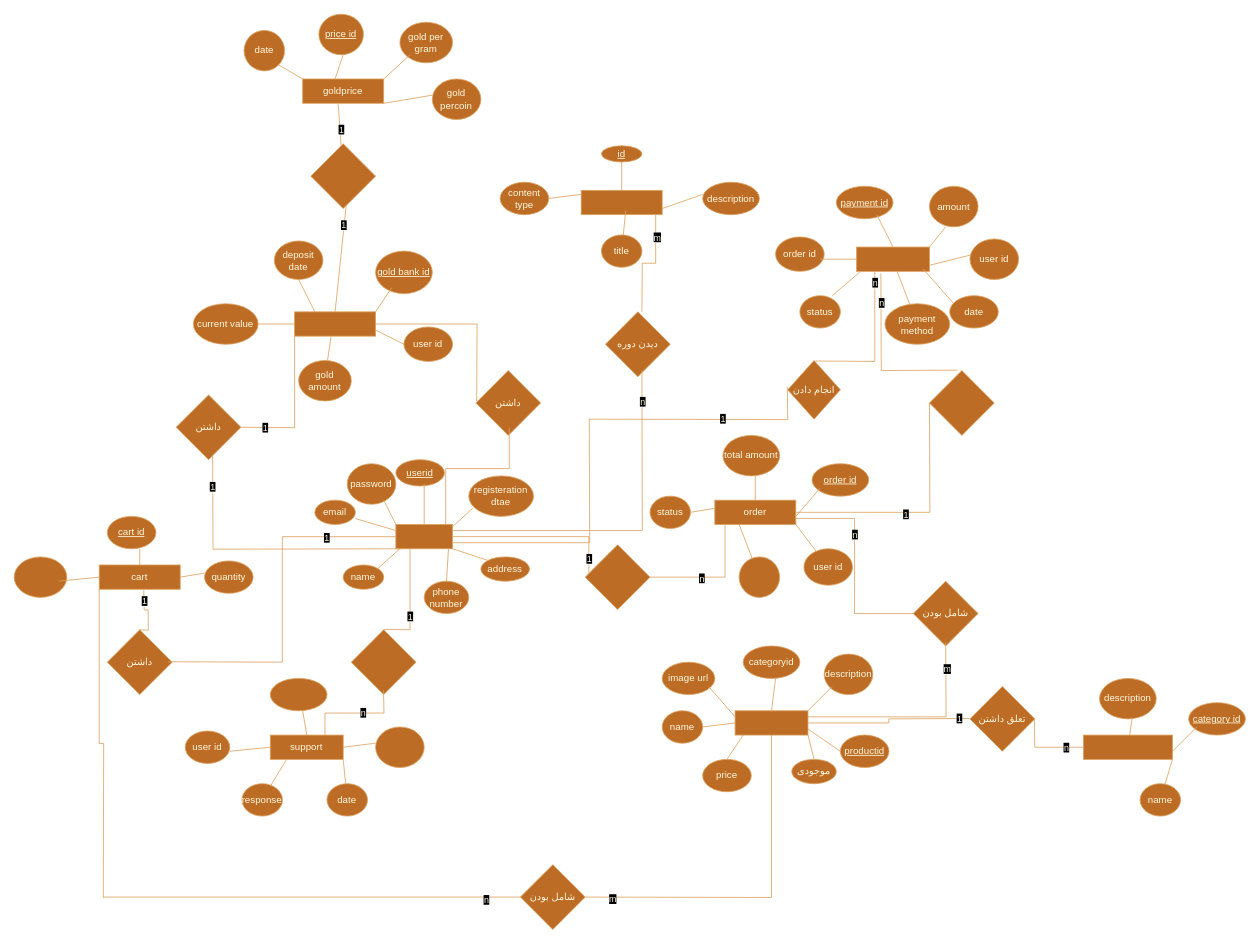
This 1260x944 diagram has some shape labels left out. The shapes that lost their labels are listed below. From the top down, each one's centre as x and y in pixels, then its label:
At pixel 343 176: "محاسبه شدن".
At pixel 621 202: "training".
At pixel 892 258: "payment".
At pixel 335 323: "goldbank".
At pixel 961 402: "ارتباط داشتن".
At pixel 424 536: "user".
At pixel 40 576: "product id".
At pixel 617 577: "ثبت کردن".
At pixel 759 576: "order date".
At pixel 383 662: "ارسال کردن".
At pixel 298 694: "message".
At pixel 771 722: "product".
At pixel 399 746: "support id".
At pixel 1127 746: "category".
